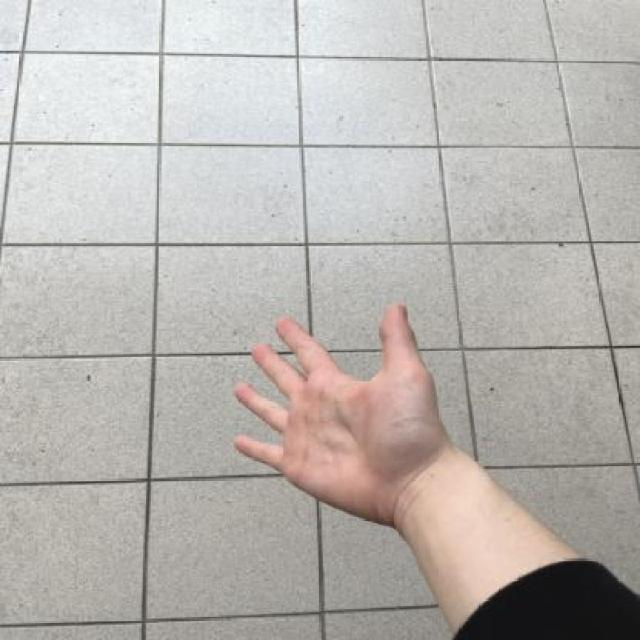no_glove: (213, 283, 469, 528)
